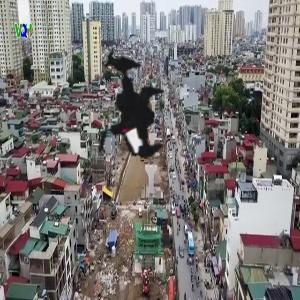drone: (37, 23, 210, 196)
